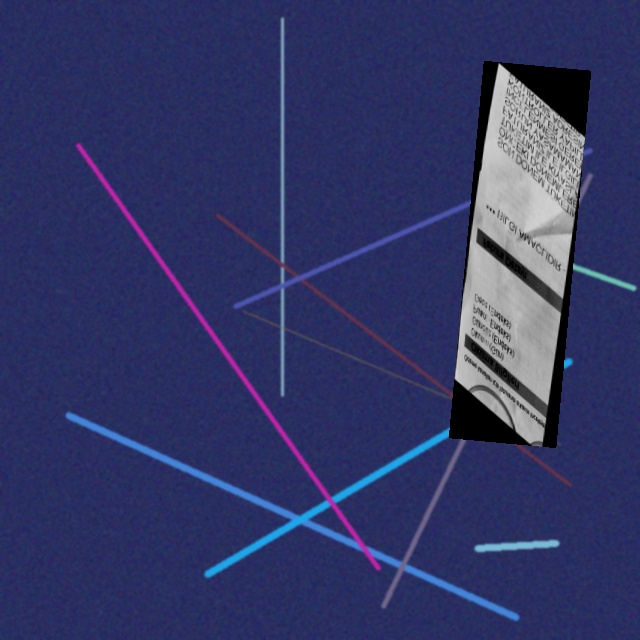electricity-bill: (449, 60, 591, 448)
